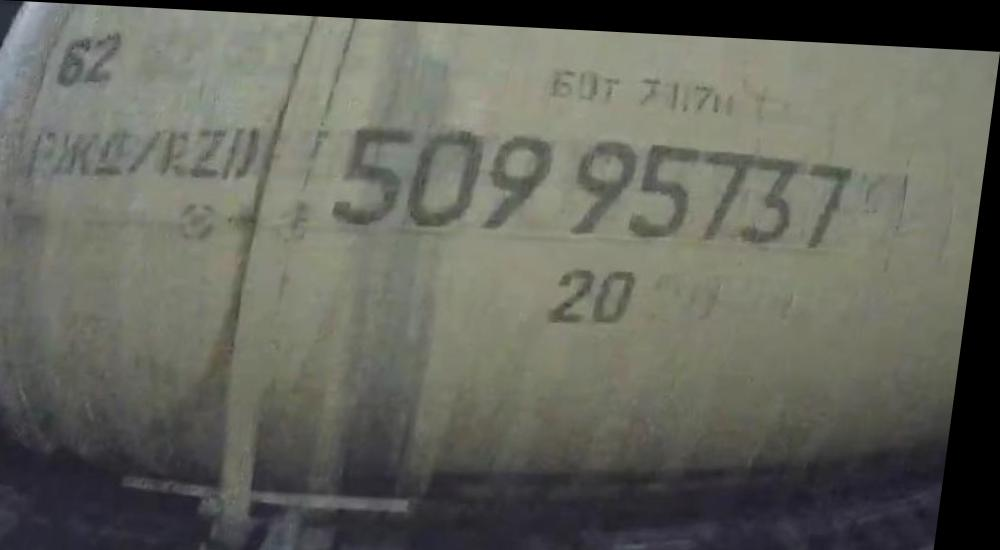Wagon-number: (330, 109, 868, 252)
